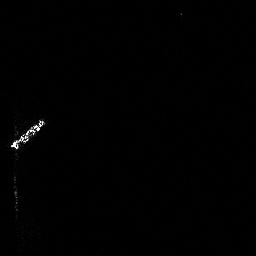ship: (7, 115, 49, 153)
